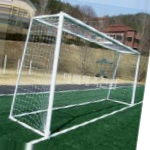goals: (9, 9, 141, 135)
